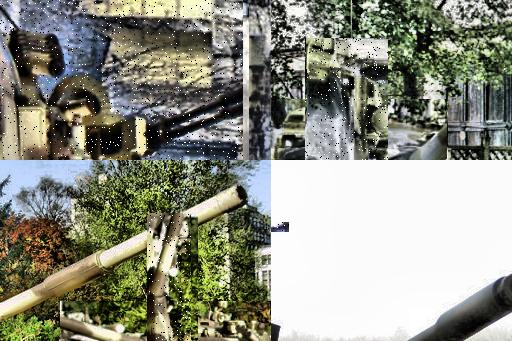tanks: (1, 188, 246, 322), (1, 35, 244, 161), (306, 40, 389, 161), (410, 275, 512, 341), (150, 215, 192, 341), (272, 223, 290, 232)
